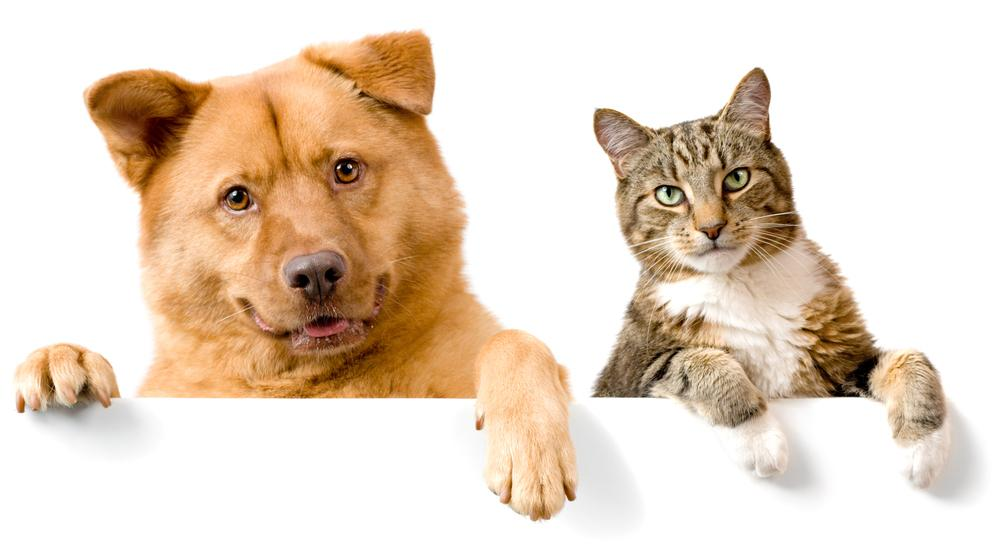cat: (589, 58, 983, 512)
dog: (6, 22, 586, 539)
